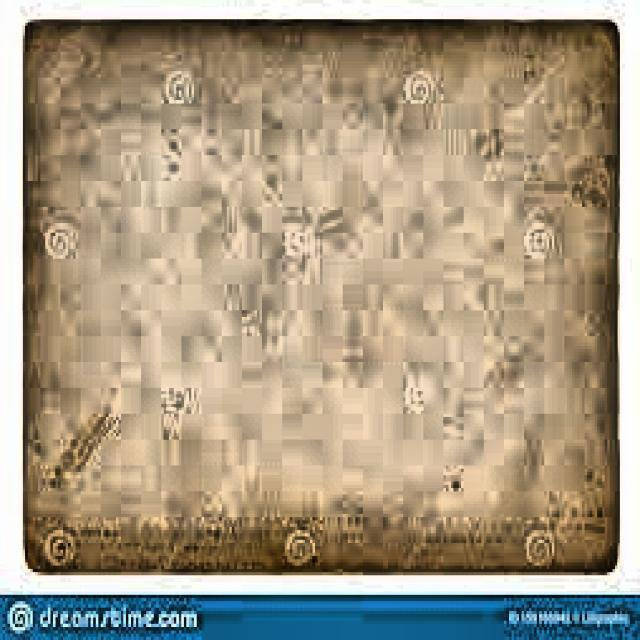cardboard: (20, 16, 620, 572)
